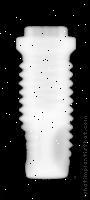Nobel Biocare: (16, 26, 76, 180)
